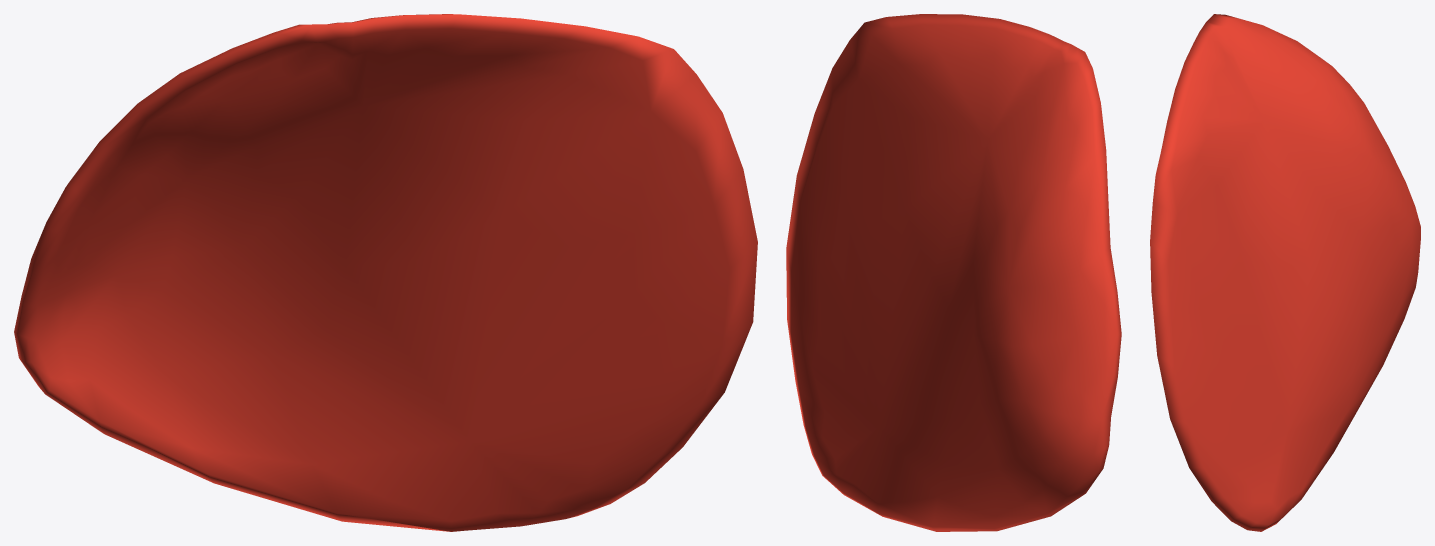
Rendered from Superior_gemellus_muscle-Ischiatic_insertion.l_Generated_Mesh_F.glb.
The picture shows the model from 3 angles, left to right: view 1: azimuth 30°, elevation 25°; view 2: azimuth 150°, elevation 25°; view 3: azimuth 270°, elevation 25°; orthographic projection. The views are drawn at different scales.
Visible parts, largest first — view 1: Superior_gemellus_muscle-Ischiatic_insertion.l_Generated_Mes; view 2: Superior_gemellus_muscle-Ischiatic_insertion.l_Generated_Mes; view 3: Superior_gemellus_muscle-Ischiatic_insertion.l_Generated_Mes.
Part boxes in pixels (left/top/right/bottom): Superior_gemellus_muscle-Ischiatic_insertion.l_Generated_Mes: left=14, top=14, right=757, bottom=531; Superior_gemellus_muscle-Ischiatic_insertion.l_Generated_Mes: left=786, top=14, right=1121, bottom=531; Superior_gemellus_muscle-Ischiatic_insertion.l_Generated_Mes: left=1150, top=14, right=1420, bottom=531.
Bounding box in the file's own units: 0.0128 × 0.0128 × 0.00744.
